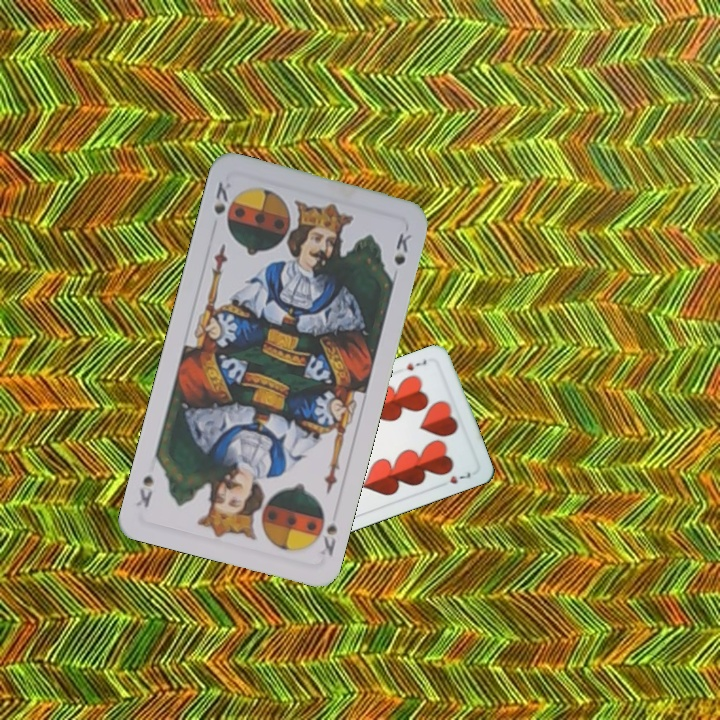H7: (403, 356, 429, 373)
SK: (316, 518, 340, 563), (209, 177, 234, 217)
